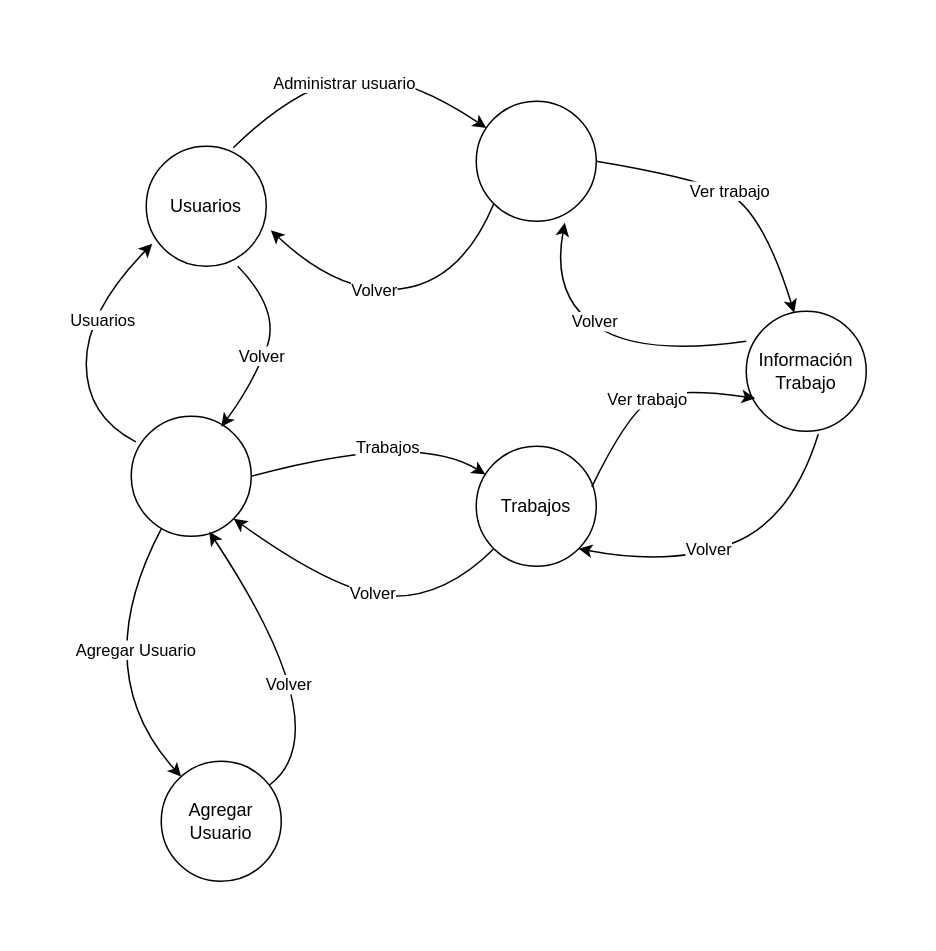
This 936x951 diagram has some shape labels left out. Here are the shapes that lost their labels. From the top down, the box of each, then its label:
(475, 100, 596, 221): Información Usuario
(130, 415, 251, 536): Login
